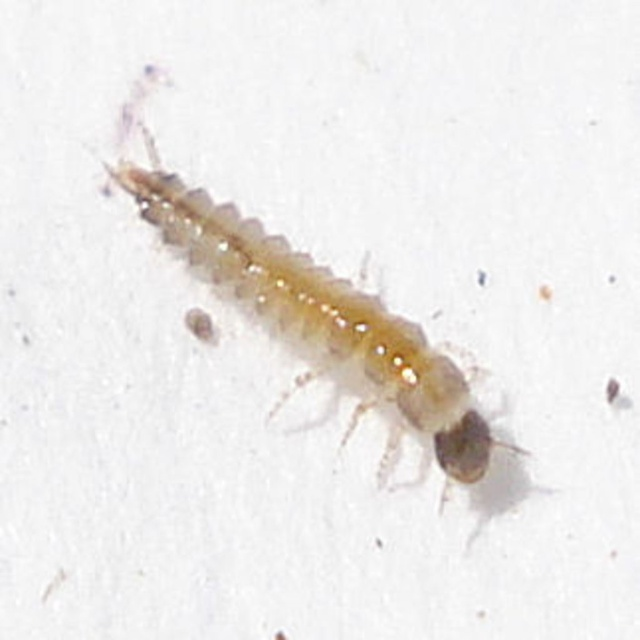Centipede: (105, 60, 533, 521)
